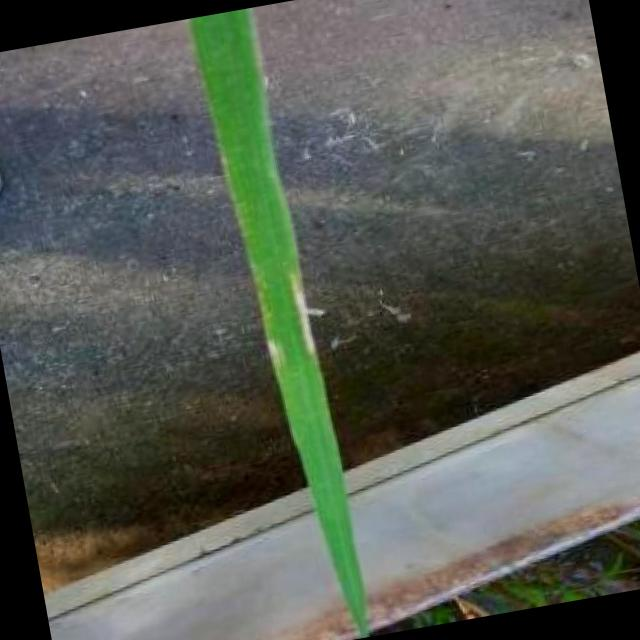Rice_Bacterial_Blight: (187, 4, 372, 606)
